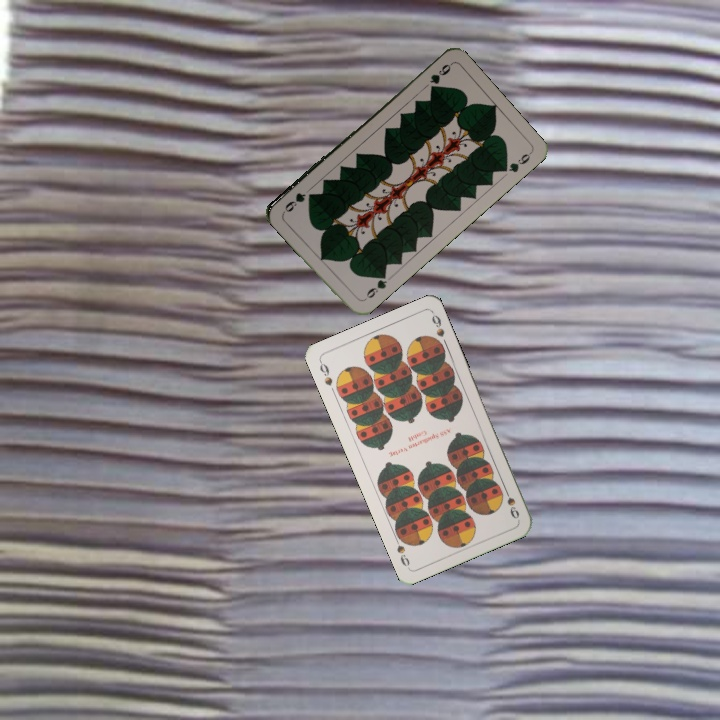G9: (358, 270, 390, 304), (426, 59, 454, 87)
S9: (500, 483, 522, 522), (315, 357, 335, 388)
